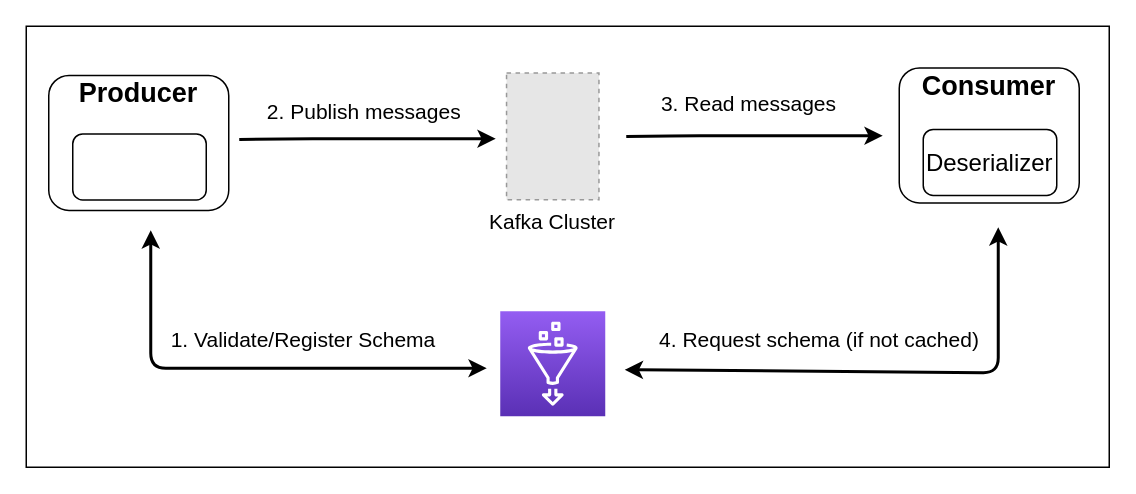
Image size: 1136x494. Some labels were removed from this diagram. Grey dashed boxes stand in for pictures. The centre of each missing label's shape, as x and y in pixels:
Glue Schema Registry: pixel 552 363
Serializer: pixel 138 166
